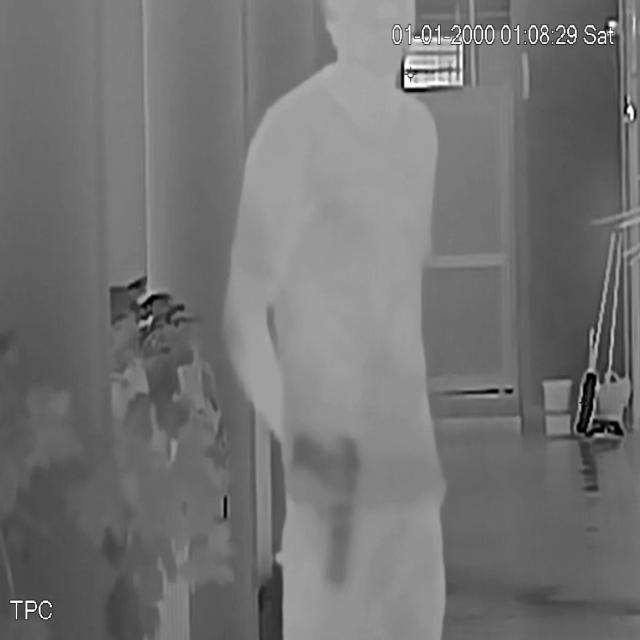Weapon: (286, 419, 370, 611)
